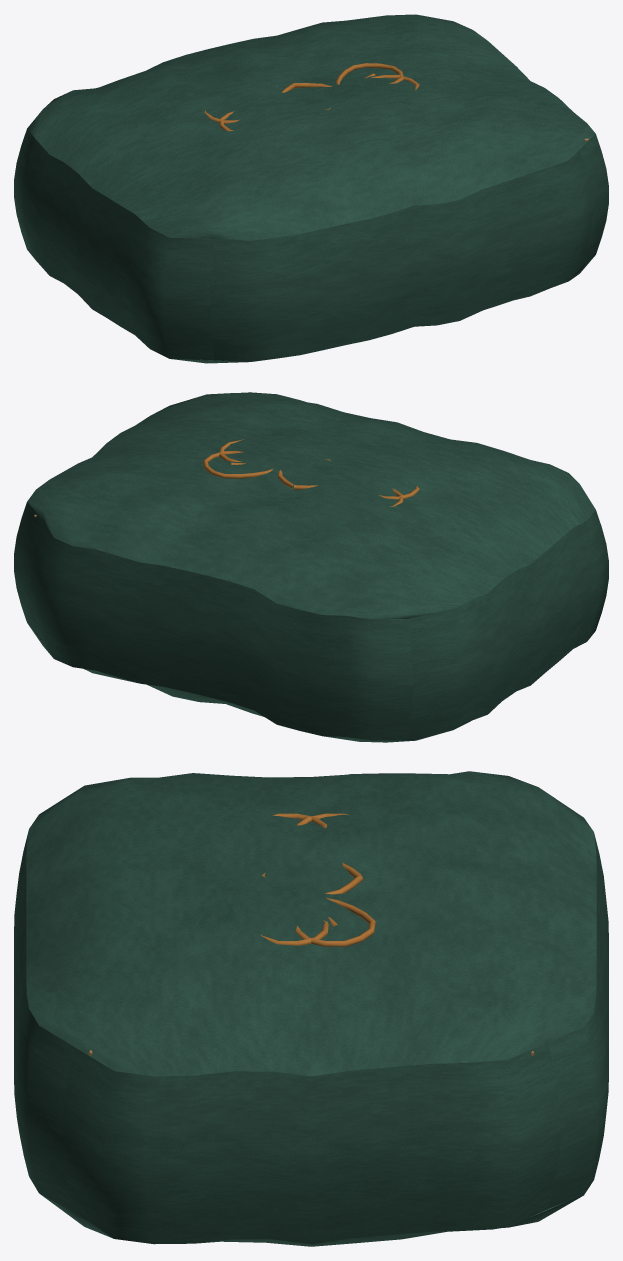
The model's file is cushion.glb.
3 renders of one model, top to bottom at view 1: azimuth 30°, elevation 25°; view 2: azimuth 150°, elevation 25°; view 3: azimuth 270°, elevation 25°, orthographic. The views are drawn at different scales.
Visible parts, largest first — view 1: Wool cushion; view 2: Wool cushion; view 3: Wool cushion.
Boxes of the visible parts, x1,y1,x2,y2 form: Wool cushion: (14,14,608,363); Wool cushion: (14,392,608,742); Wool cushion: (14,771,608,1246).
Size of the model in its own units: 0.6153 by 0.253 by 0.5006.
Materials: 4 (4 with a texture image).
